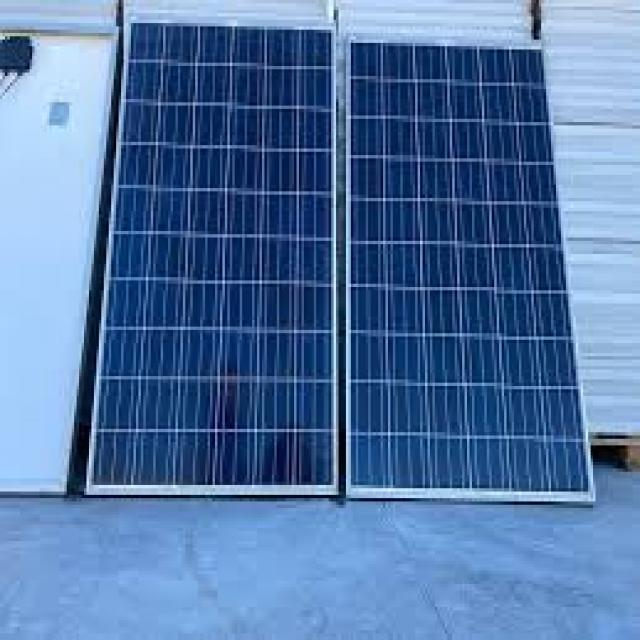no faulty: (337, 52, 587, 509), (105, 24, 333, 492)
